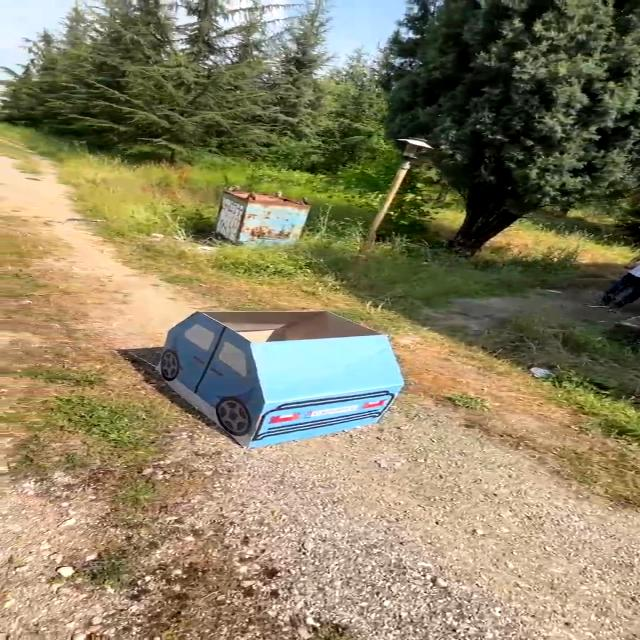blue_car: (107, 292, 423, 462)
